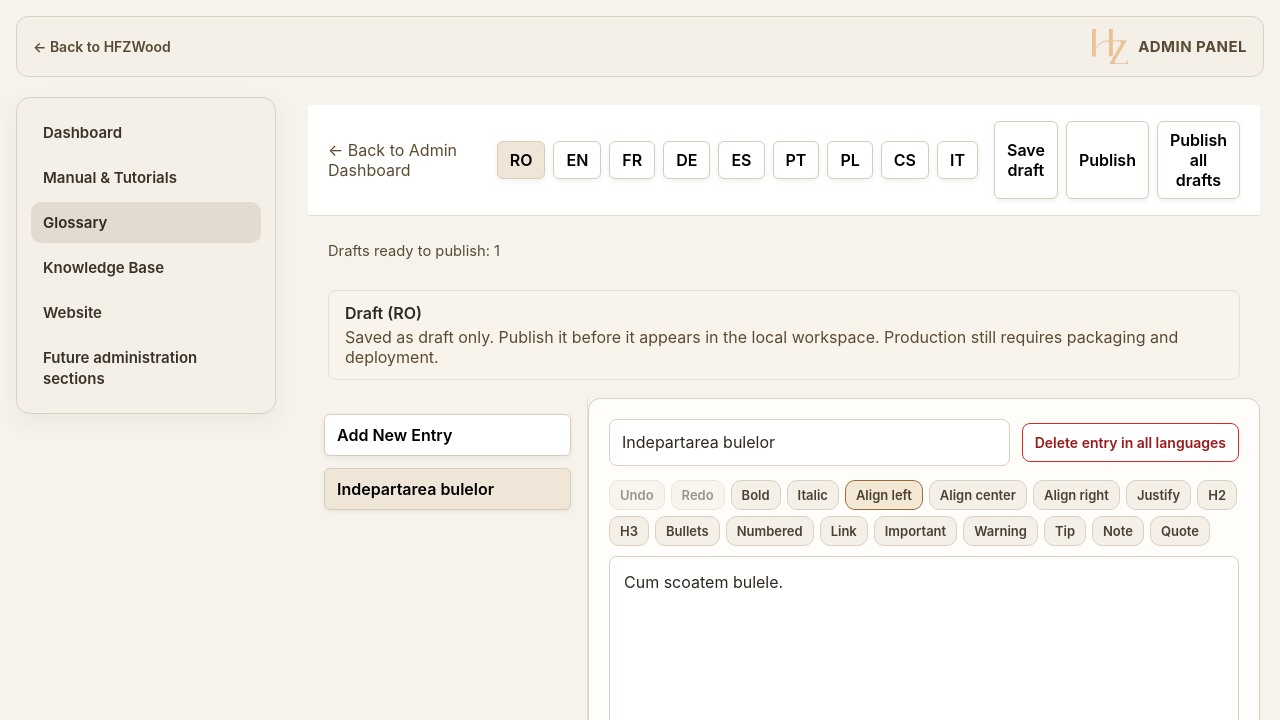
Test: Glossary management workspace (Task 60) › surfaces backend relationship validation when Publish is rejected
Click the button "Indepartarea bulelor".
click(448, 489)  # box [324,468,571,510]
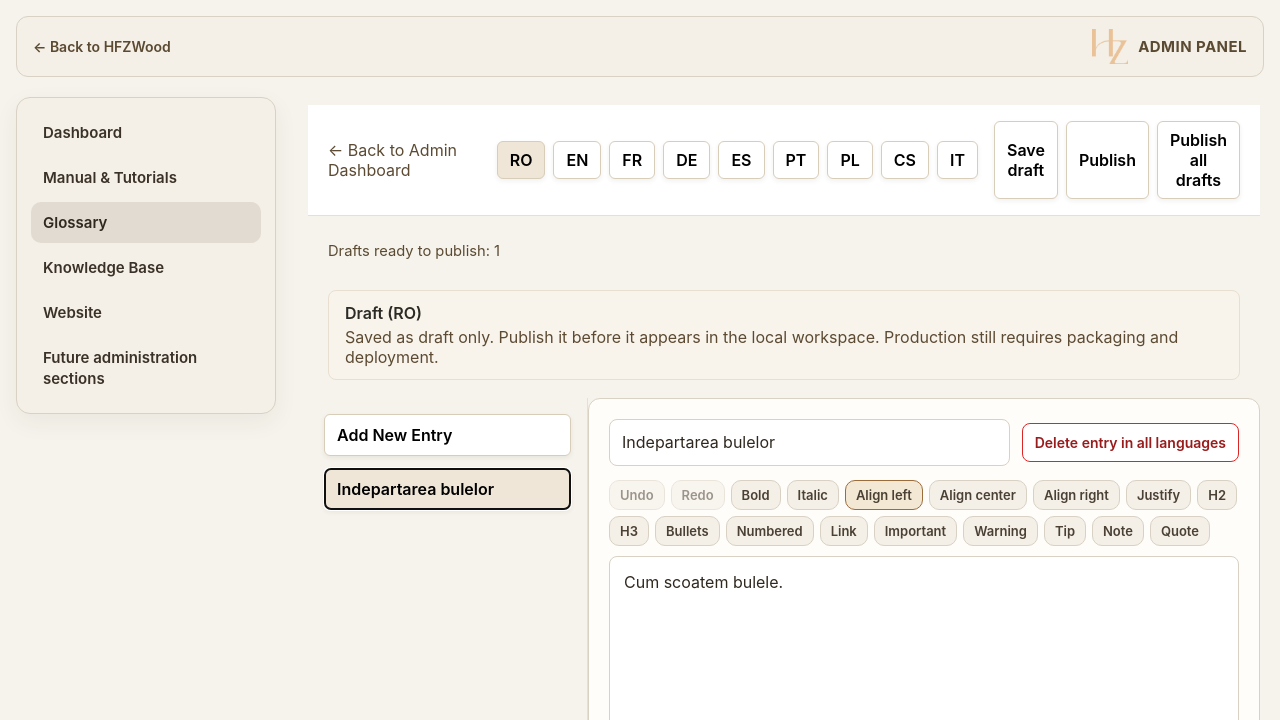
Click the button "Publish".
click(1107, 160)  # box [1066,121,1149,199]
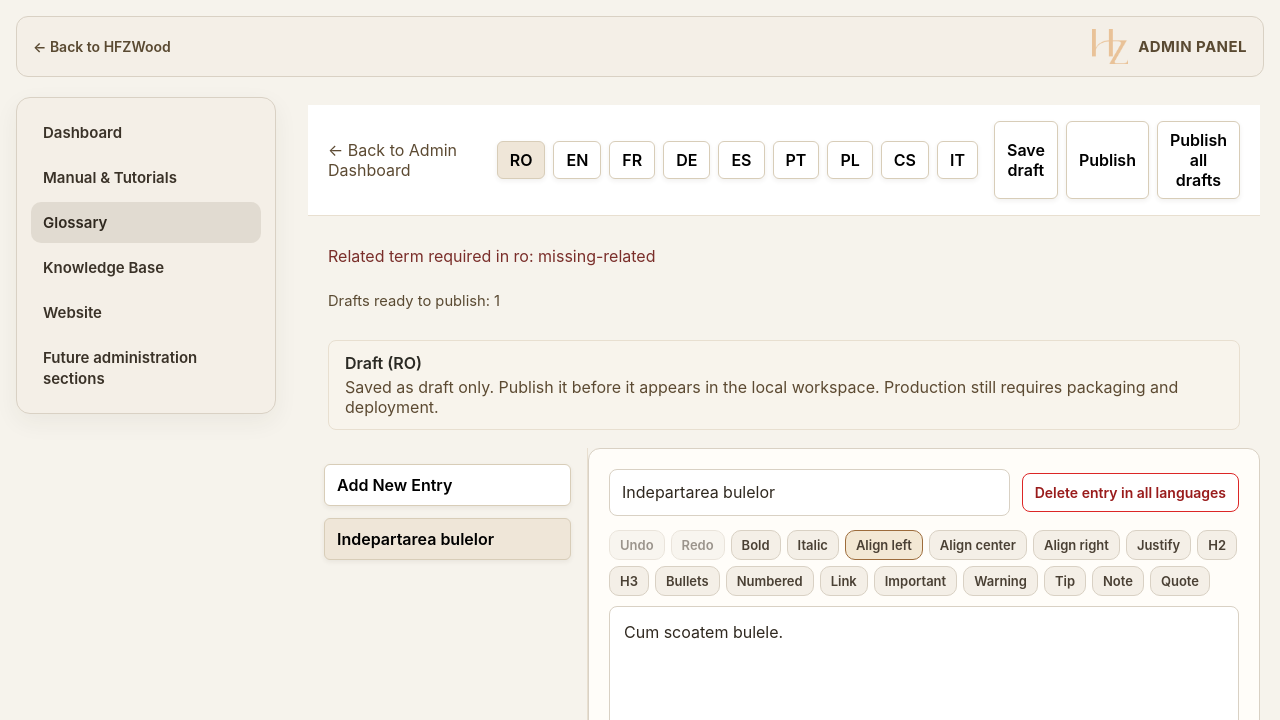
Now the text "Related term required in ro: missing-related" is shown, box [328,246,656,266]
